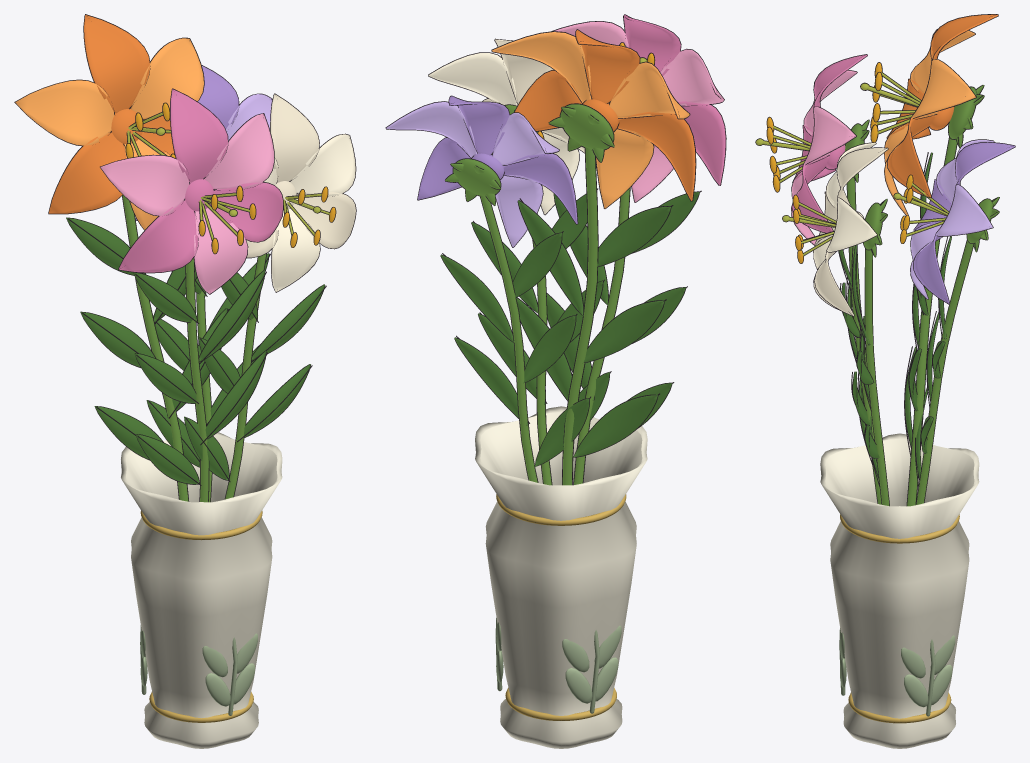
File: vase_lily_flowers.glb
3 views of the same model, side by side, from view 1: azimuth 30°, elevation 25°; view 2: azimuth 150°, elevation 25°; view 3: azimuth 270°, elevation 25° (orthographic). The views are drawn at different scales.
Visible parts, largest first — view 1: lily_Geometry.001, Ivory_lily_body, lily_Geometry.002, lily_Geometry, lily_Geometry.003, Lily_brass_band.001, Lily_brass_band, Relief_leaf; view 2: Ivory_lily_body, lily_Geometry.002, lily_Geometry.003, lily_Geometry.001, lily_Geometry, Lily_brass_band.001, Lily_brass_band, Relief_leaf.012, Relief_leaf.013, Relief_leaf.015; view 3: Ivory_lily_body, lily_Geometry.002, lily_Geometry.003, lily_Geometry, lily_Geometry.001, Lily_brass_band.001, Lily_brass_band, Relief_leaf.006, Relief_leaf.007, Relief_leaf.009.
Part boxes in pixels (x1,y1,x2,y2): lily_Geometry.001: (100,88,283,502); Ivory_lily_body: (121,432,282,748); lily_Geometry.002: (14,14,229,501); lily_Geometry: (184,93,356,499); lily_Geometry.003: (135,65,272,502); Lily_brass_band.001: (140,510,262,540); Lily_brass_band: (149,692,253,722); Relief_leaf: (205,673,230,706); Ivory_lily_body: (475,406,647,748); lily_Geometry.002: (491,29,696,485); lily_Geometry.003: (385,95,590,482); lily_Geometry.001: (546,14,726,485); lily_Geometry: (428,38,611,485); Lily_brass_band.001: (496,494,626,525); Lily_brass_band: (505,688,616,720); Relief_leaf.012: (565,668,592,703); Relief_leaf.013: (562,639,589,672); Relief_leaf.015: (595,657,618,701); Ivory_lily_body: (820,433,979,748); lily_Geometry.002: (860,14,998,506); lily_Geometry.003: (893,139,1015,504); lily_Geometry: (782,142,889,506); lily_Geometry.001: (755,54,881,504); Lily_brass_band.001: (840,514,959,543); Lily_brass_band: (848,692,951,723); Relief_leaf.006: (904,674,928,707); Relief_leaf.007: (901,647,925,678); Relief_leaf.009: (931,664,952,705).
Size of the model in its own units: 0.1893 by 0.4397 by 0.1519.
